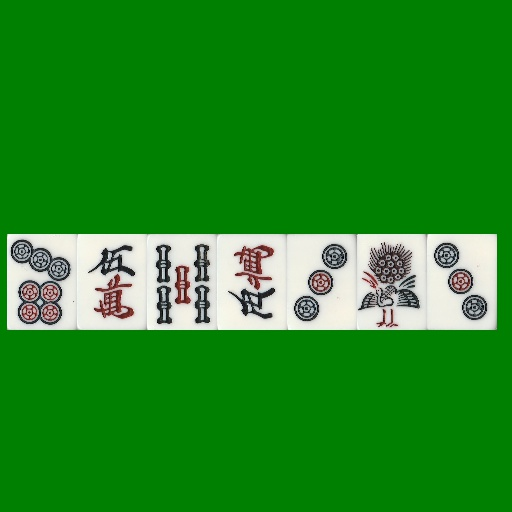1s: (357, 234, 427, 330)
3p: (287, 234, 357, 330), (427, 234, 497, 330)
5m: (77, 234, 147, 330), (217, 234, 287, 330)
5s: (147, 234, 217, 330)
7p: (7, 234, 77, 330)
